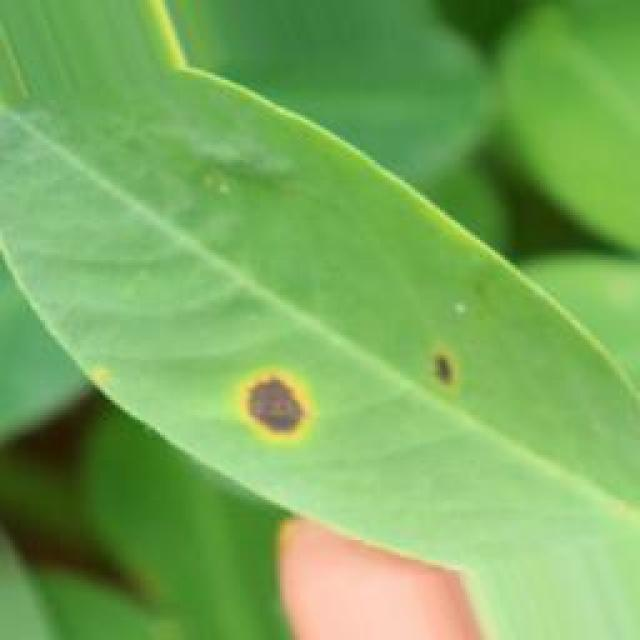Sigatoka: (372, 328, 468, 424), (239, 353, 331, 445)
